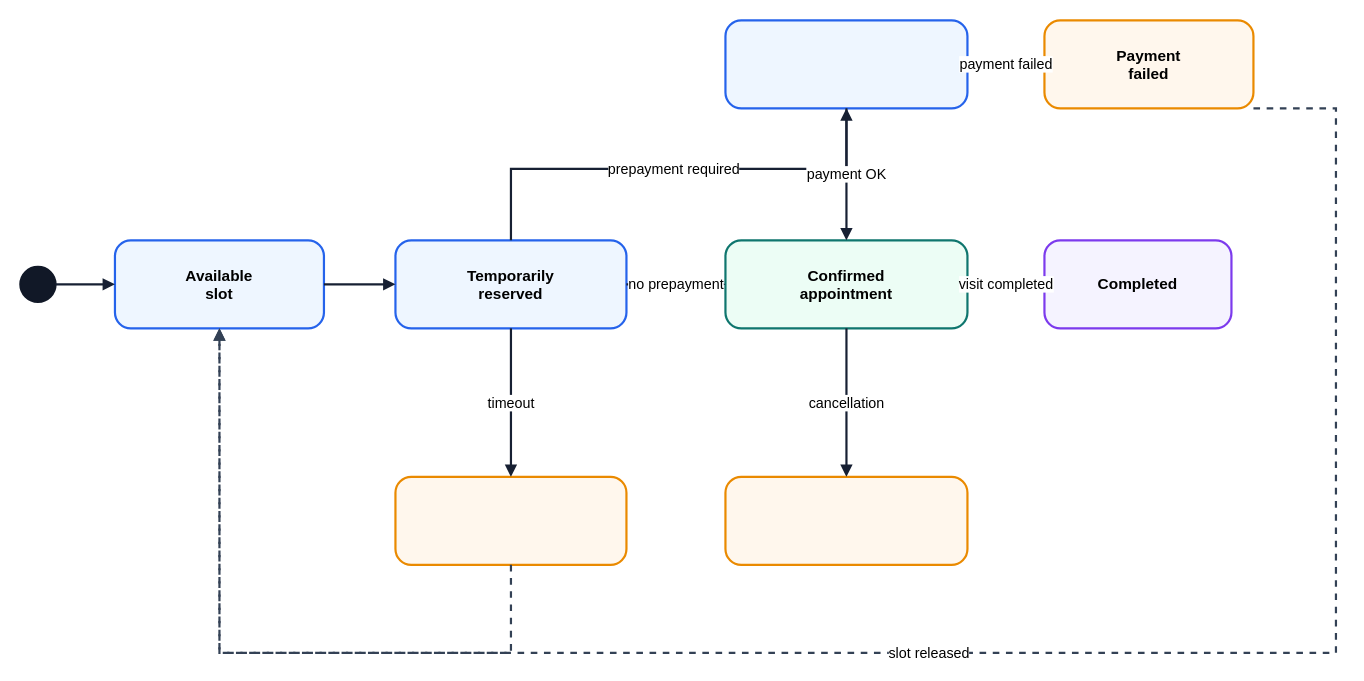
Image size: 1364x681. Some labels were removed from this diagram. The shapes that lost their labels are listed below. From the top down, each one's box as (x1, y1, x2, y2) in pixels, then its label:
(724, 19, 968, 109): Pending payment
(394, 475, 627, 565): Reservation expired
(724, 475, 968, 565): Cancelled
